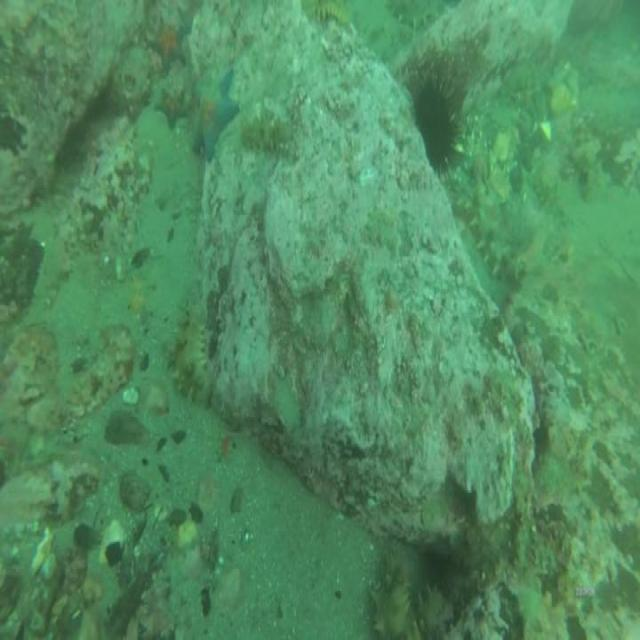echinus: (415, 87, 453, 175)
holothurian: (375, 553, 445, 640), (474, 185, 520, 278), (175, 303, 212, 392), (243, 116, 289, 156)
starfish: (191, 72, 237, 162), (148, 16, 186, 68), (157, 88, 186, 126)
